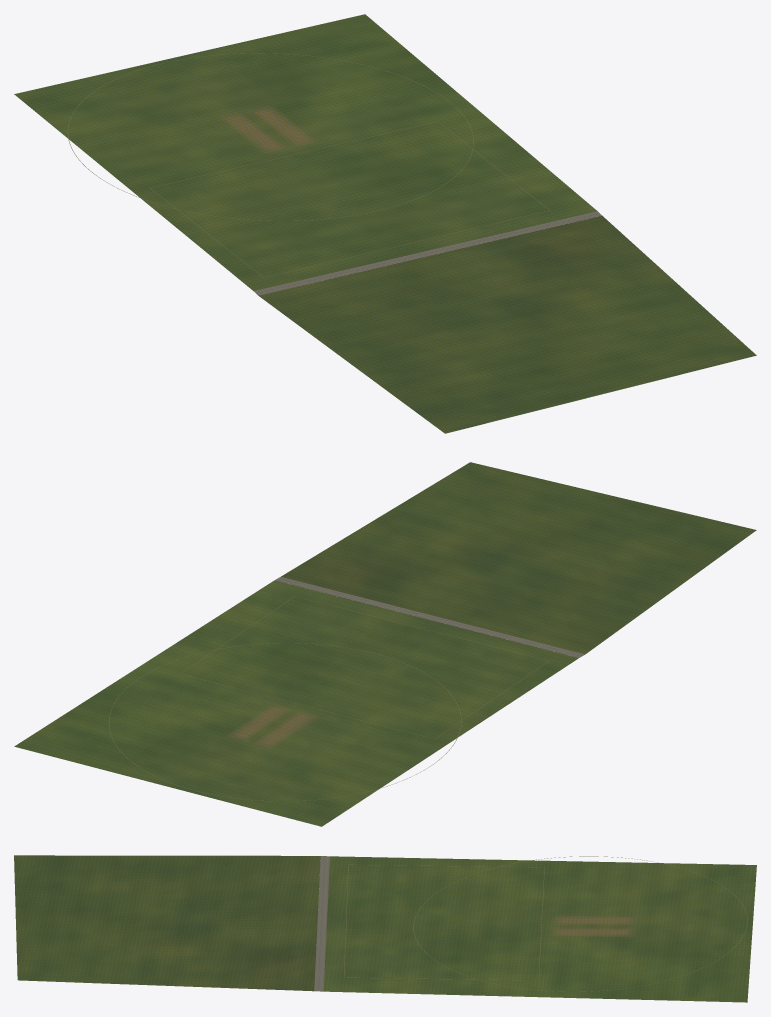
3 renders of one model, top to bottom at view 1: azimuth 30°, elevation 25°; view 2: azimuth 150°, elevation 25°; view 3: azimuth 270°, elevation 25°, orthographic. The views are drawn at different scales.
Bounding box in the file's own units: 127 × 0.1906 × 272.
Materials: 2 (2 with a texture image).
